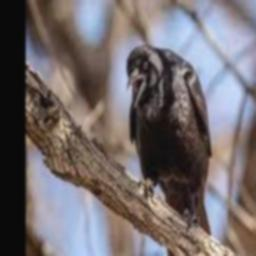Crow: (125, 44, 213, 256)
